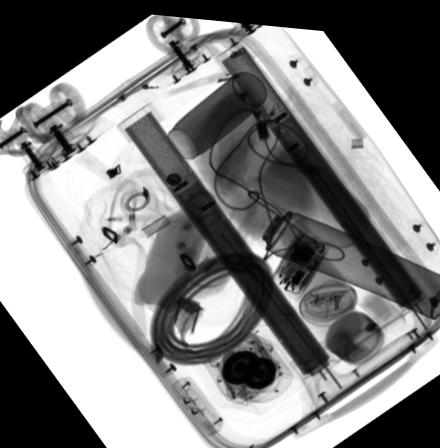Sprayer: (235, 192, 440, 309)
